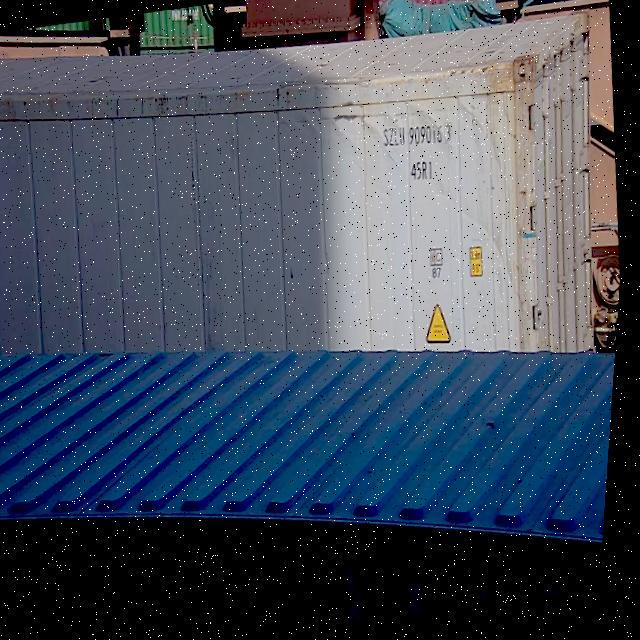rust: (487, 45, 554, 163)
